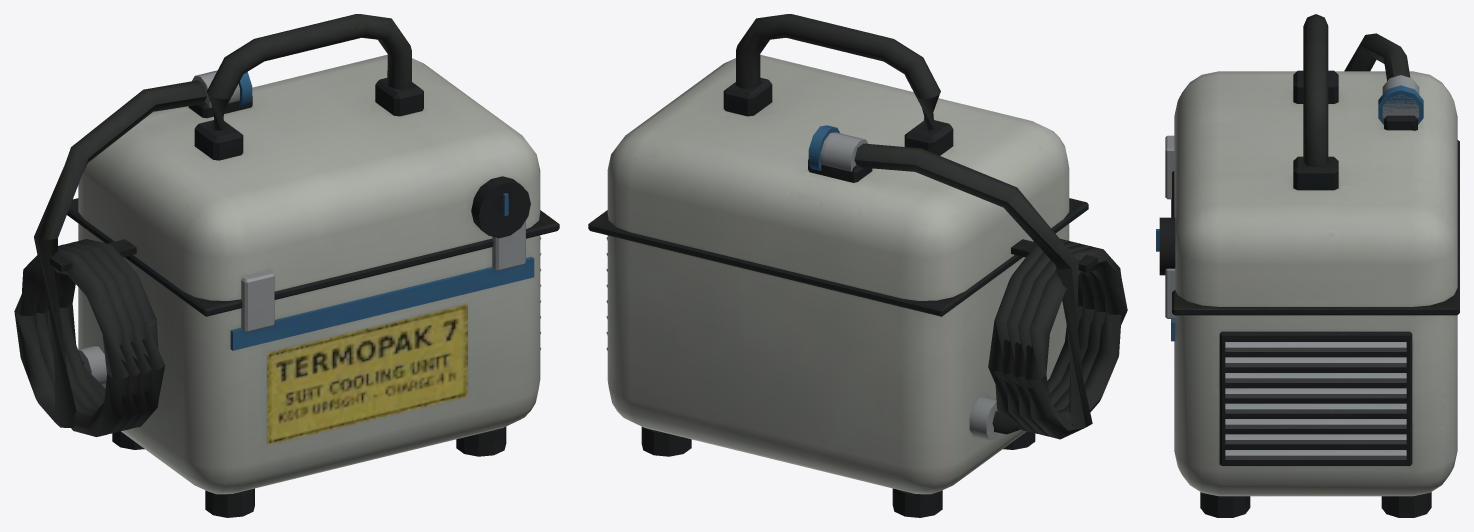
The model's file is suit_cooler.glb.
3 views of the same model, side by side, from view 1: azimuth 30°, elevation 25°; view 2: azimuth 150°, elevation 25°; view 3: azimuth 270°, elevation 25° (orthographic). The views are drawn at different scales.
Visible parts, largest first — view 1: lod0; view 2: lod0; view 3: lod0.
Boxes of the visible parts, <box> form: lod0: <box>14,14,559,517</box>; lod0: <box>588,14,1127,517</box>; lod0: <box>1156,14,1459,517</box>.
Size of the model in its own units: 0.4395 by 0.396 by 0.268.
Materials: 1 (1 with a texture image).
